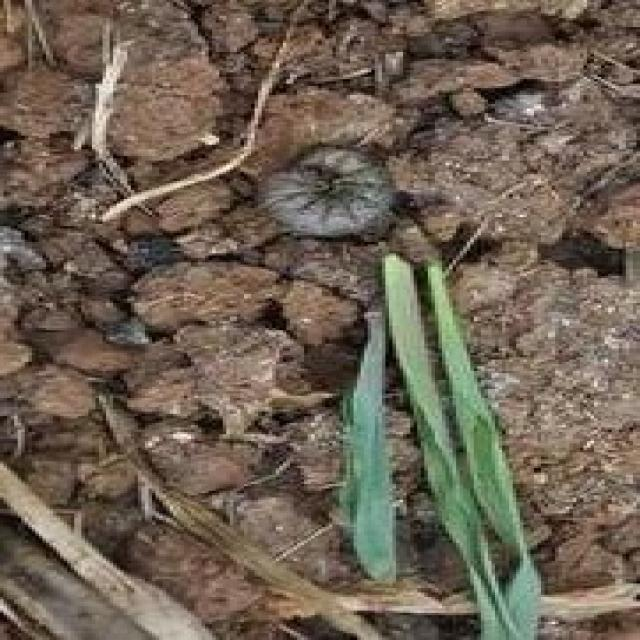black cutworm: (259, 141, 394, 245)
